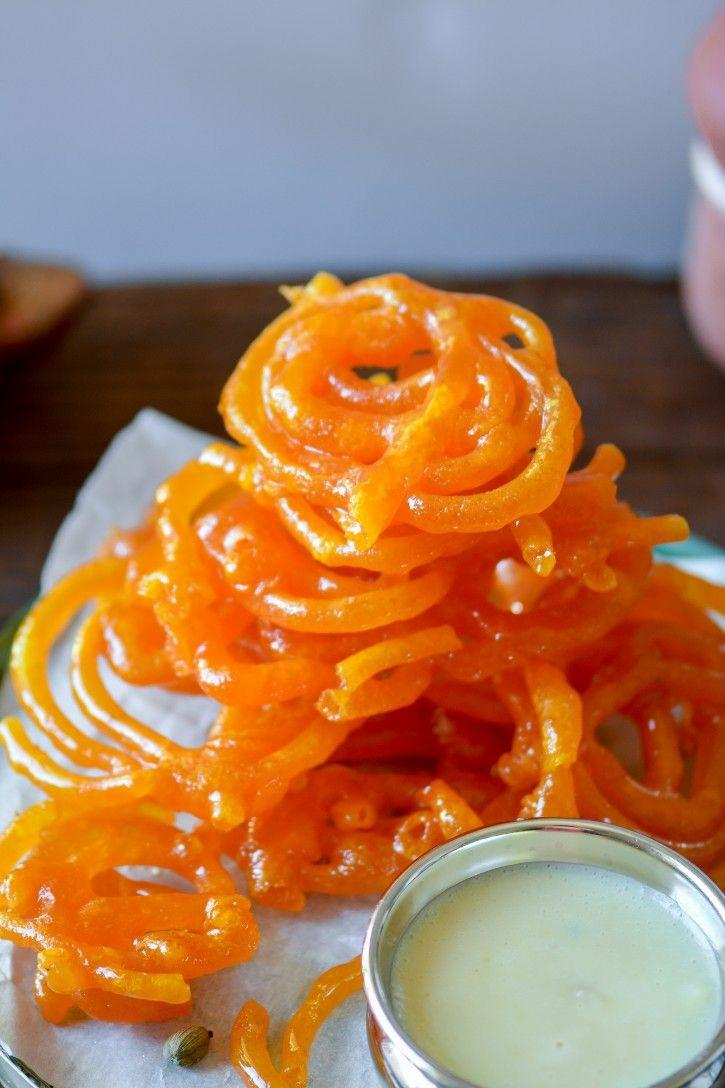Jalebi: (6, 260, 725, 1088)
